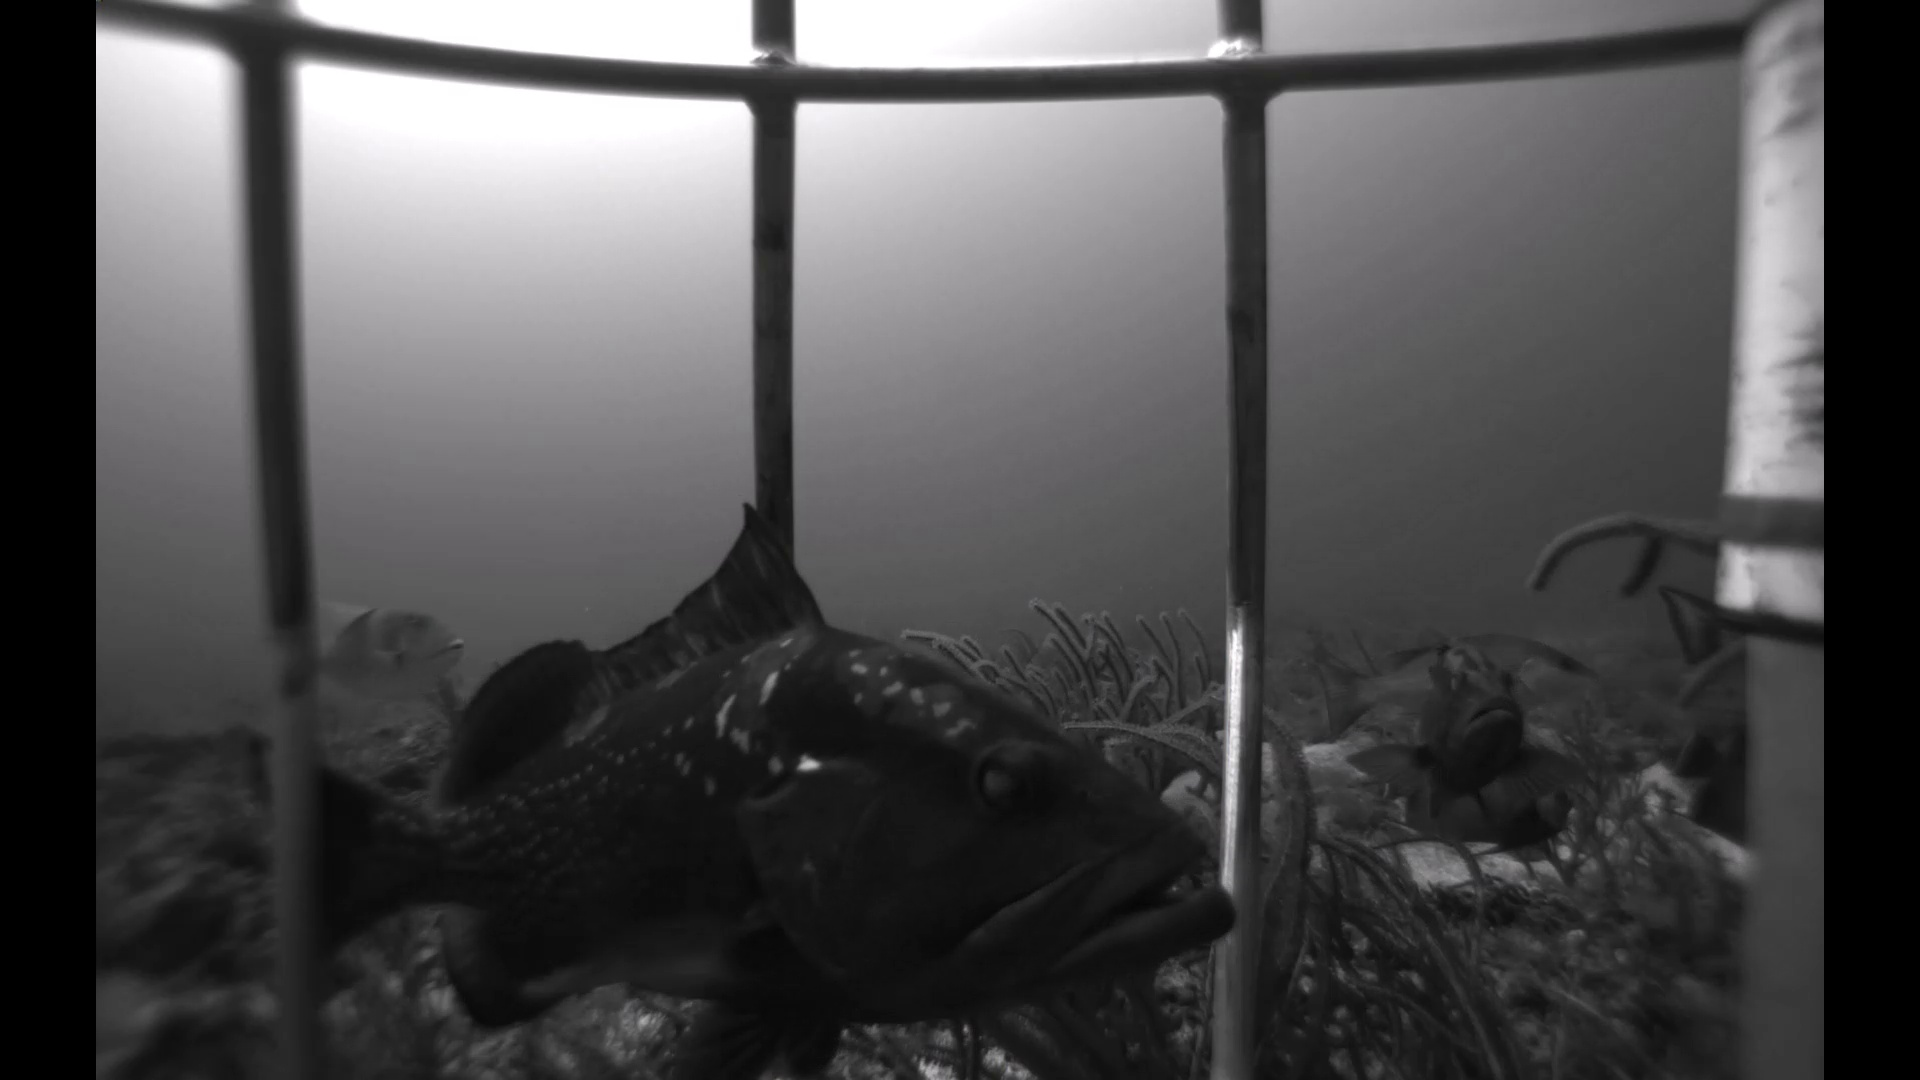BALISTESCAPRISCUS-189030502: (313, 579, 471, 711)
EPINEPHELUSMORIO-170021211: (222, 477, 1242, 1080), (1342, 633, 1573, 823), (1640, 570, 1746, 676)
LACHNOLAIMUSMAXIMUS-170281801: (1154, 758, 1298, 840)
LUTJANUSGRISEUS-170151109: (1298, 613, 1621, 740)
POMACANTHUSARCUATUS-170290201: (1386, 737, 1582, 858), (1652, 702, 1746, 851)
